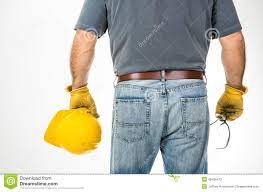Helmet: (42, 106, 104, 155)
No-jacket: (94, 1, 230, 91)
gloves: (215, 82, 253, 128)
